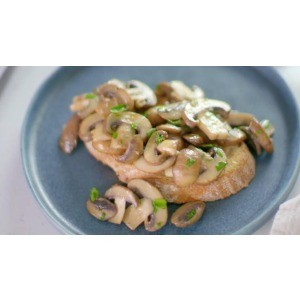mushroom_brain food: (65, 87, 246, 193)
